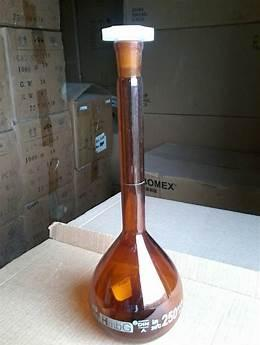Volumetric flask: (64, 26, 195, 335)
